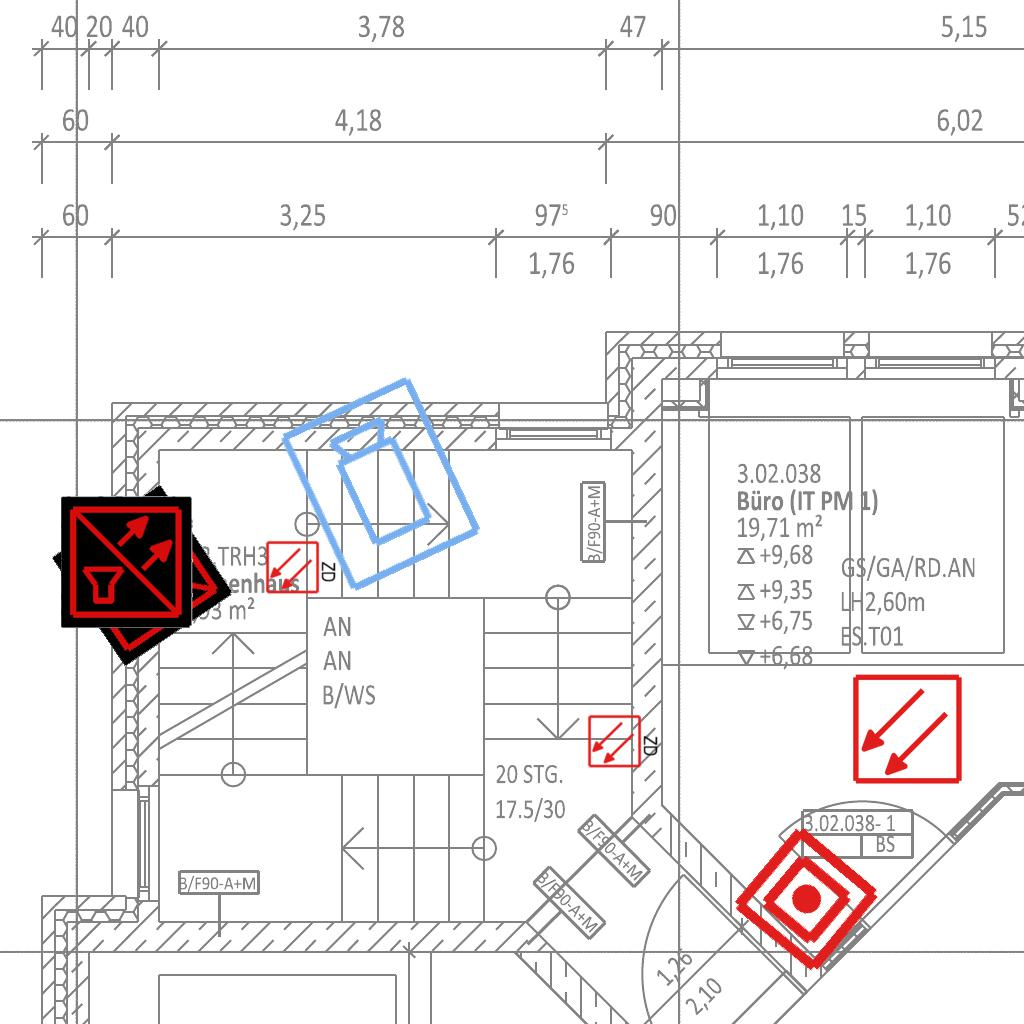KFO_Kamera_mit_Festobjektiv: (273, 368, 491, 600)
NAM-Nichtautomatischer_Melder: (726, 819, 887, 980)
OKW_Multisensormelder_(Kombination_optischer_Rauch-Kahlenmonoxid_Waerme-Melder): (51, 483, 235, 667), (61, 496, 193, 628)
RMO_Rauchmelder_optischer: (851, 673, 964, 786)
ZD_Melder_in_Zwischendecke_mit_Revisionsoeffnung_mind_40_x_40_cm: (587, 712, 661, 769), (265, 538, 339, 595)
